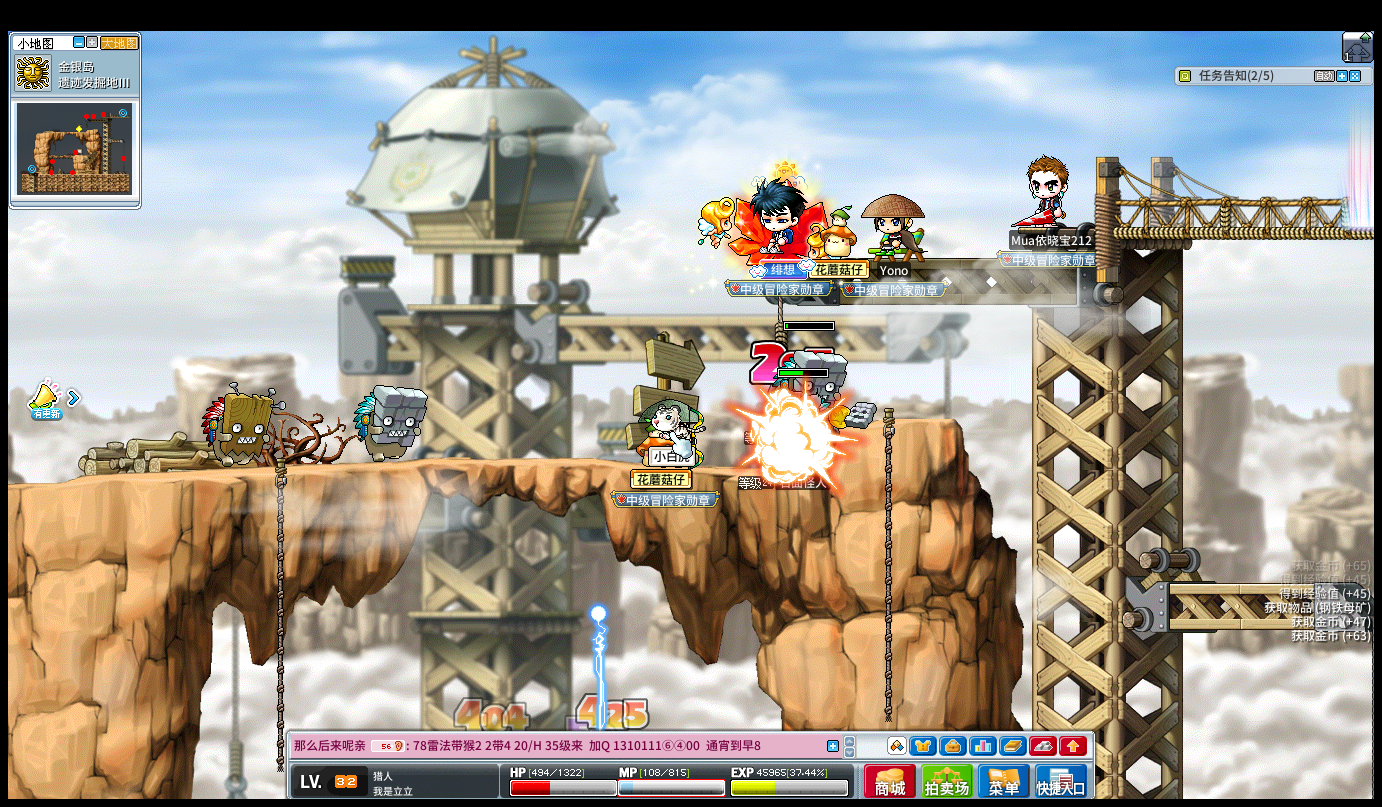floor: (19, 455, 868, 477), (1168, 580, 1369, 593), (842, 414, 958, 430)
monster: (201, 385, 279, 469), (354, 384, 428, 463)
rope: (271, 449, 287, 807), (880, 412, 895, 722), (273, 454, 286, 722), (880, 613, 894, 718)
